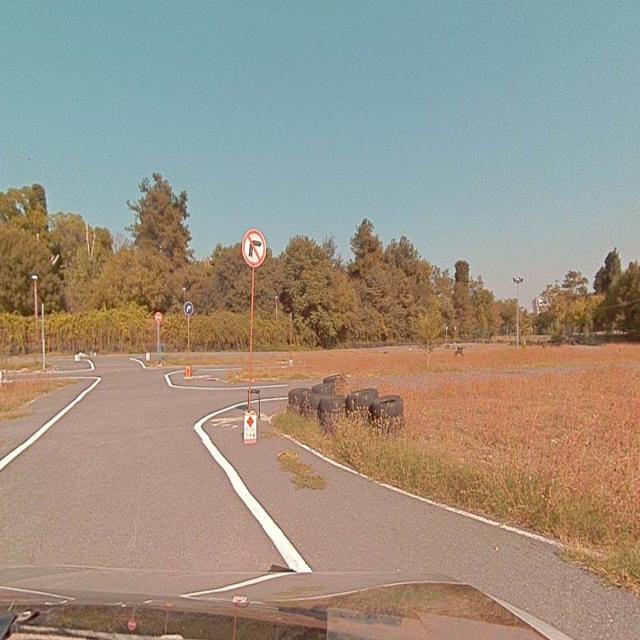girisyok: (155, 312, 161, 322)
sag: (184, 302, 193, 316)
sagadonulmez: (242, 228, 266, 266)
